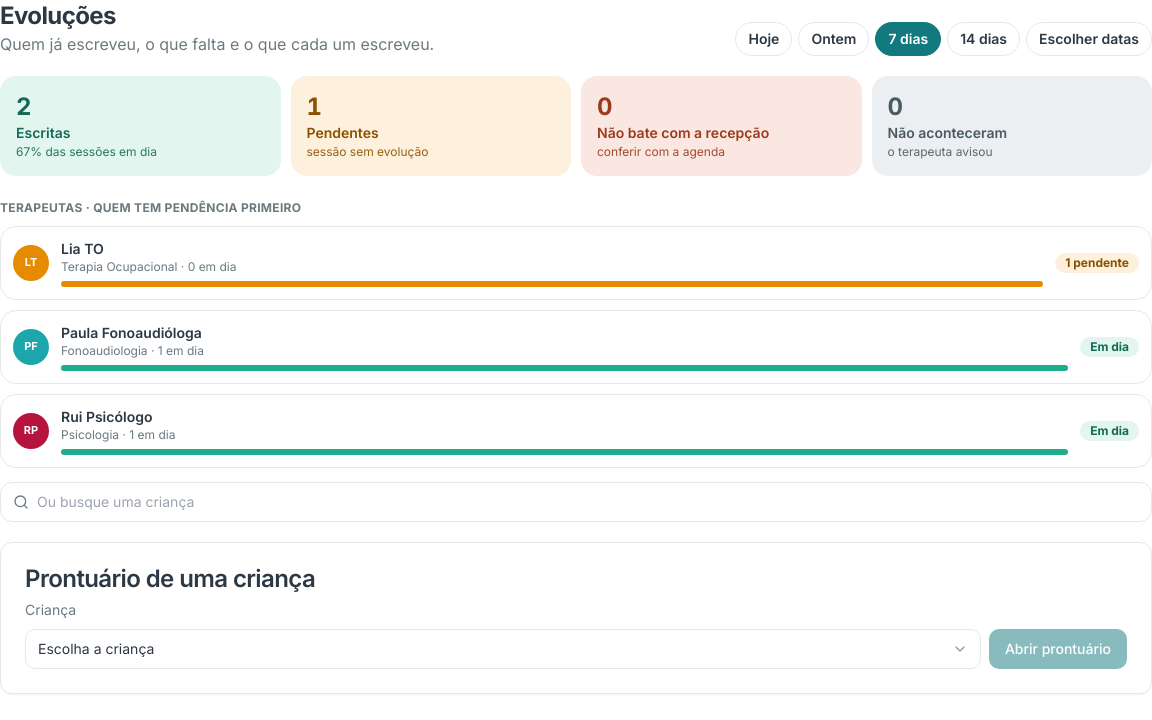
Test: no celular, tocar num número também abre a lista, e a leitura abre numa folha
The width and height of the screenshot is (1152, 720).
Click the button "2 Escritas 67% das sessões em dia".
click(43, 132)  # box [0,76,280,176]
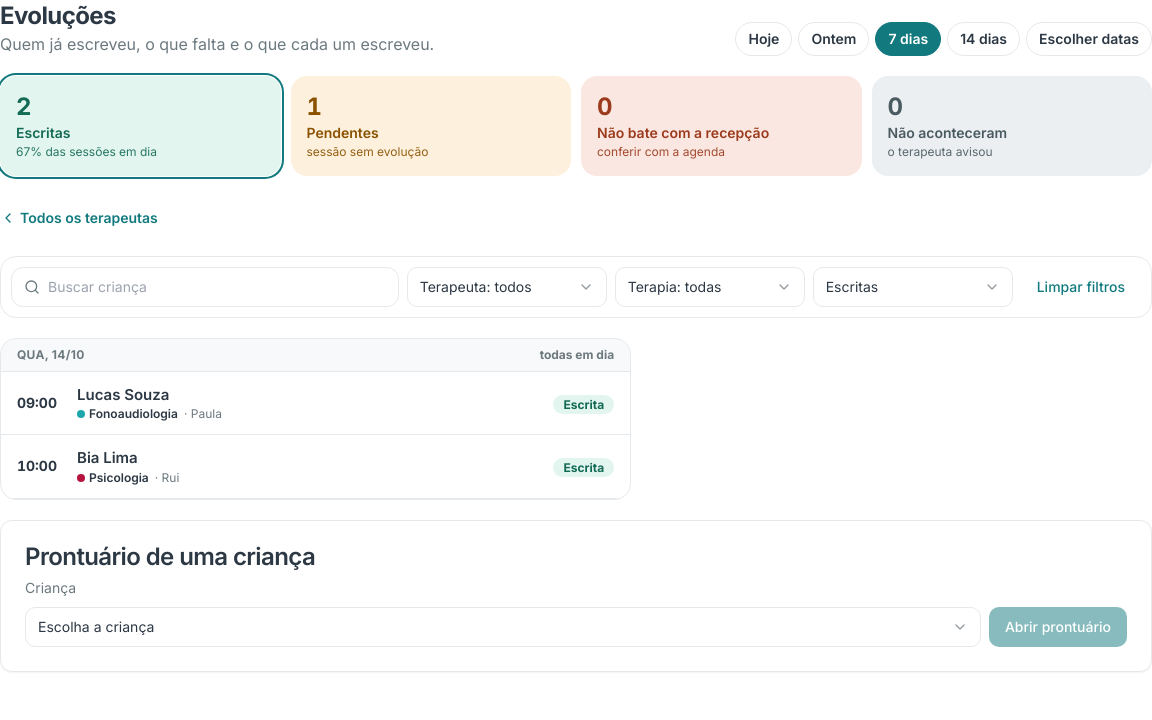
Click the button "09:00 Lucas Souza Fonoaudiologia · Paula Escrita".
click(37, 402)  # box [1,372,630,435]
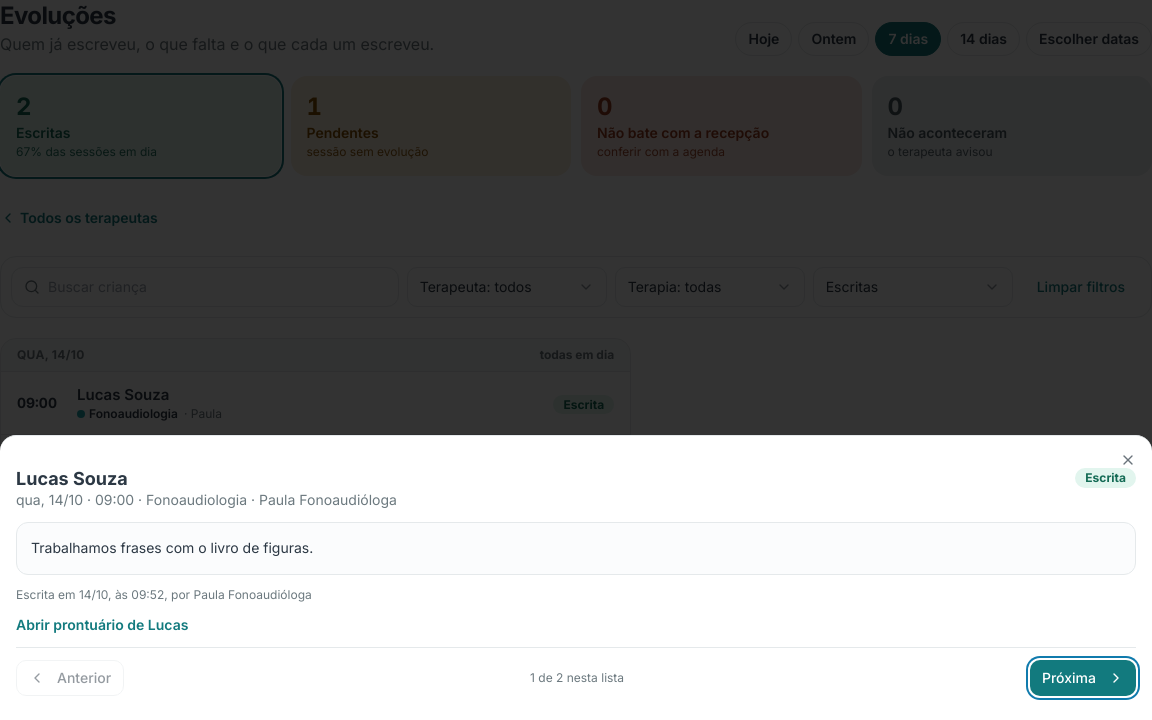
Expected: the text "Trabalhamos frases com o livro de figuras." is shown, [31,539,313,556]
